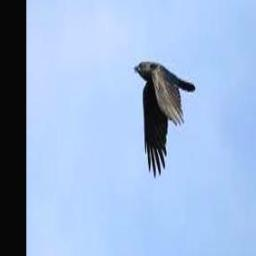Crow: (133, 62, 195, 178)
